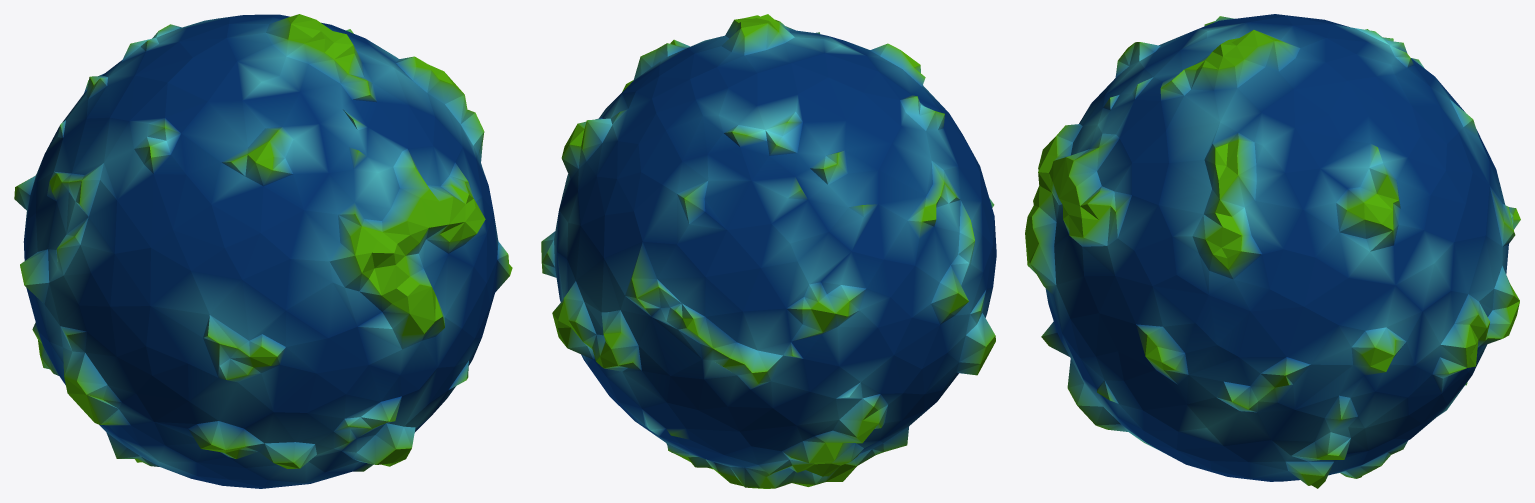
The model's file is planet_95.fbx.
3 views of the same model, side by side, from view 1: azimuth 30°, elevation 25°; view 2: azimuth 150°, elevation 25°; view 3: azimuth 270°, elevation 25° (orthographic). The views are drawn at different scales.
Visible parts, largest first — view 1: file1; view 2: file1; view 3: file1.
Part boxes in pixels (bbox=[...]): file1: bbox=[14, 14, 512, 488]; file1: bbox=[541, 14, 996, 488]; file1: bbox=[1025, 14, 1520, 488].
Bounding box in the file's own units: 2.13 × 2.13 × 2.12.
